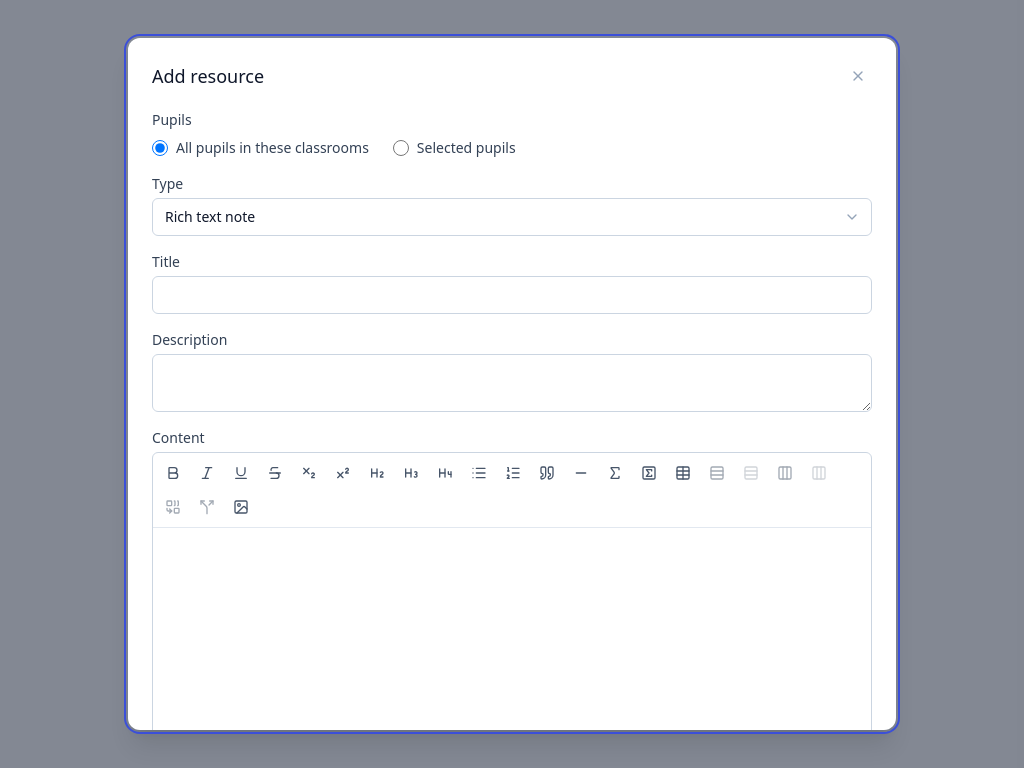
ResourceEditorModal › refuses a same-day window whose end time is before its start time
The image size is (1024, 768).
Type "Notes" into the field labelled "Title" at {"x": 512, "y": 295}, box [152,276,872,314]
(page scrolled)
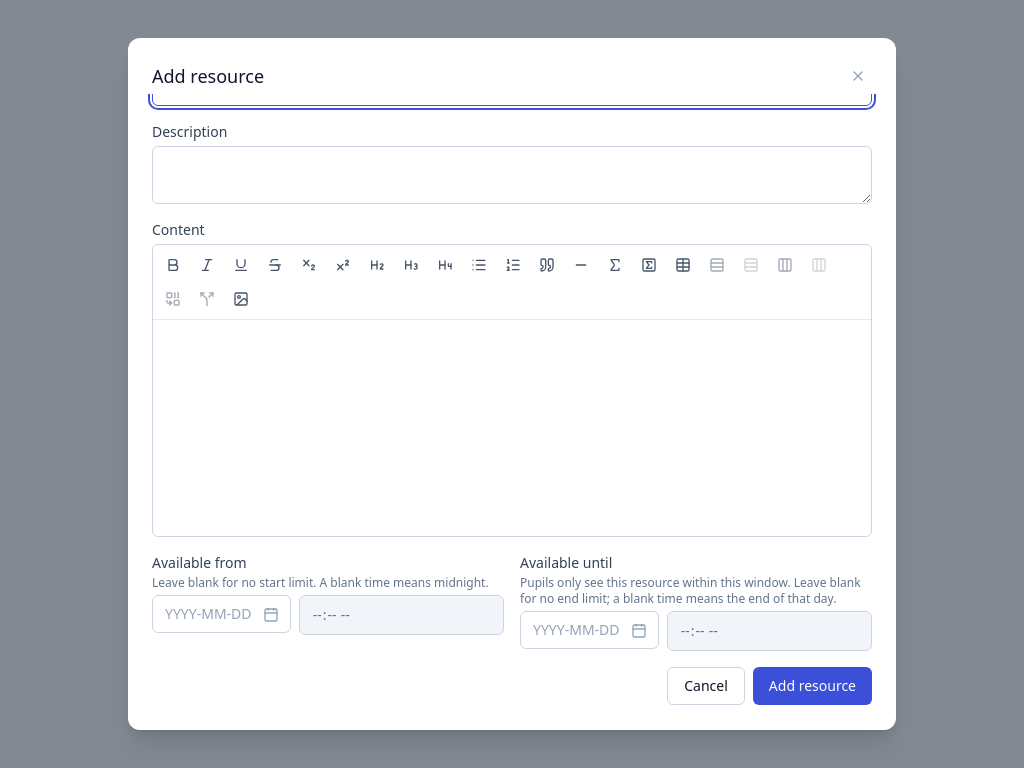
Type "2026-03-10" into the field labelled "Available from" at {"x": 221, "y": 614}, box [152,595,291,633]
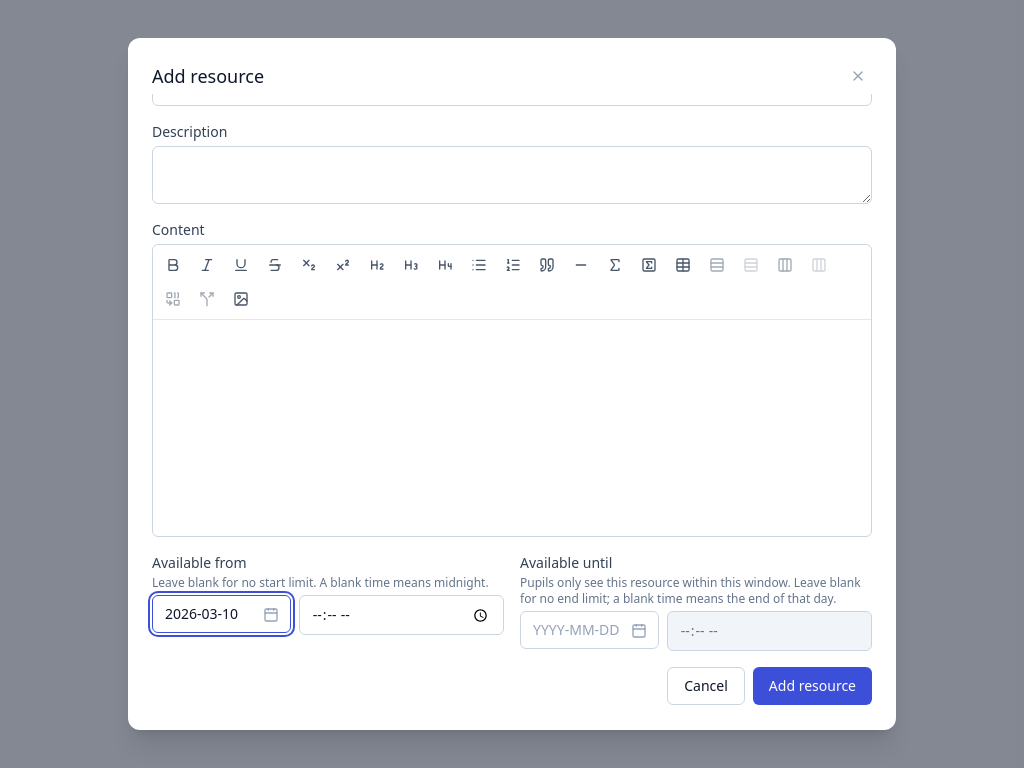
Type "14:00" into the time field named "Available from time" at {"x": 401, "y": 615}, box [299,595,504,635]
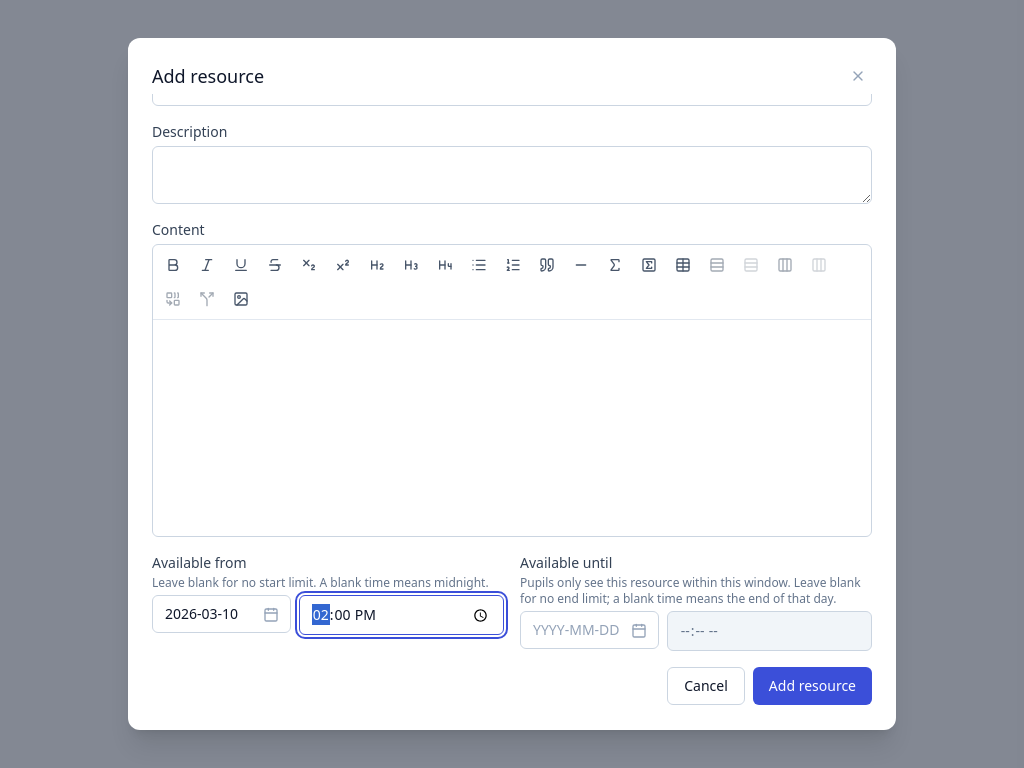
Type "2026-03-10" into the field labelled "Available until" at {"x": 589, "y": 630}, box [520,611,659,649]
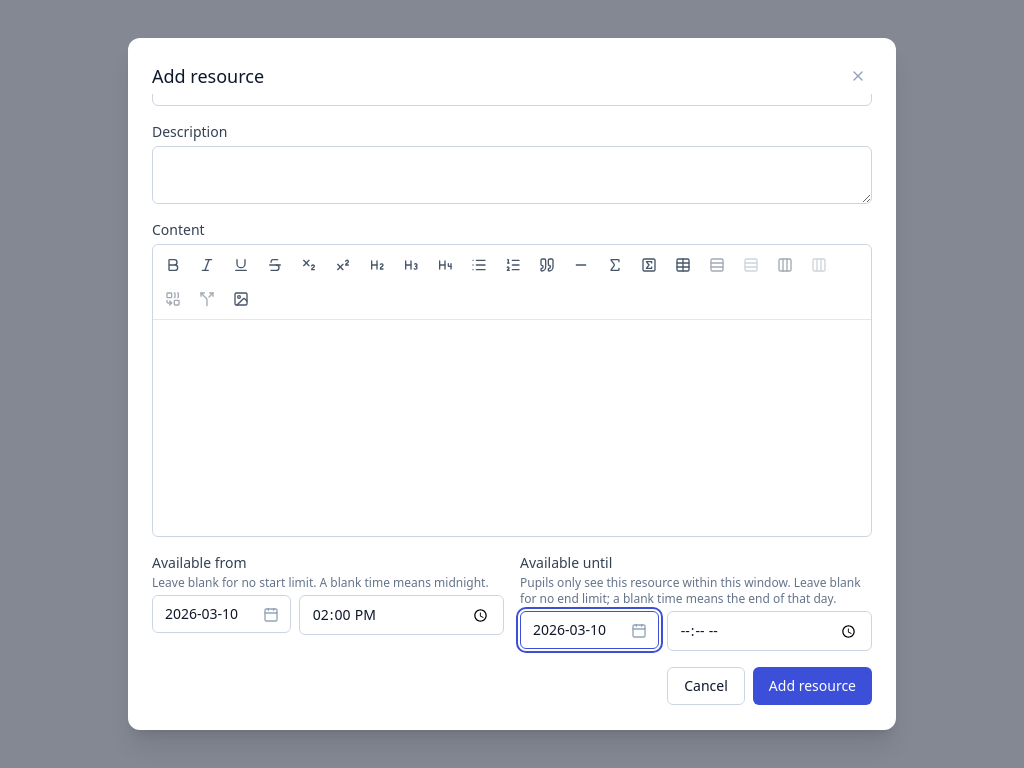
Type "09:00" into the time field named "Available until time" at {"x": 769, "y": 631}, box [667,611,872,651]
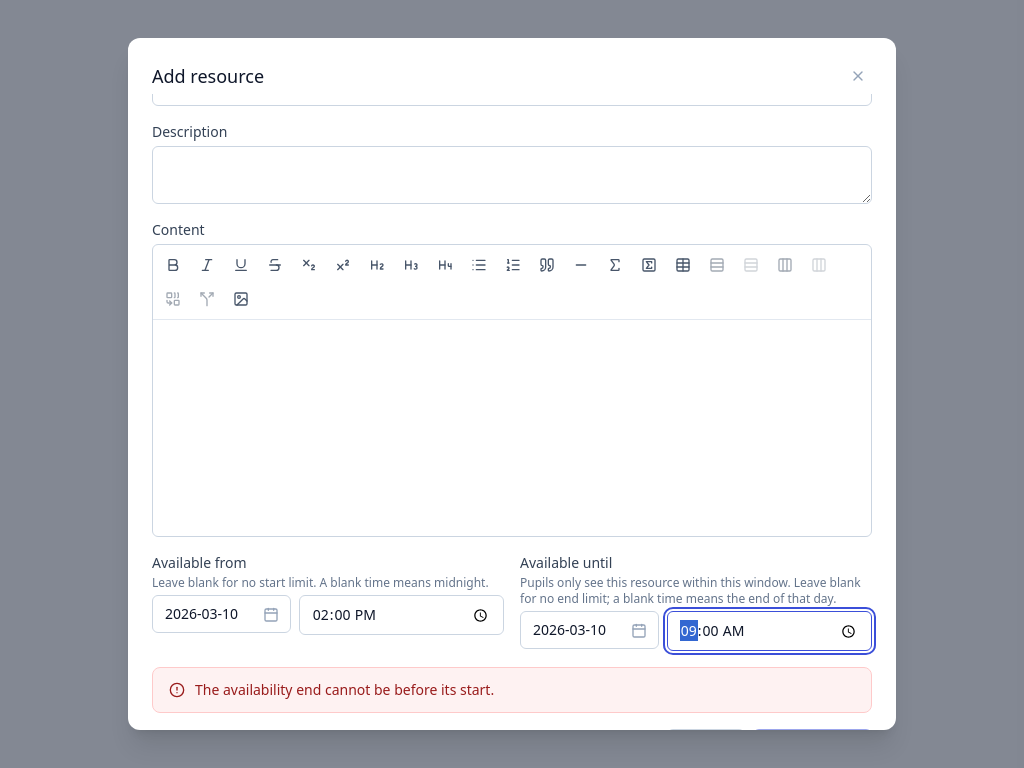
Expected: the text "The availability end cannot be before its start." is shown, [195,680,494,700]
